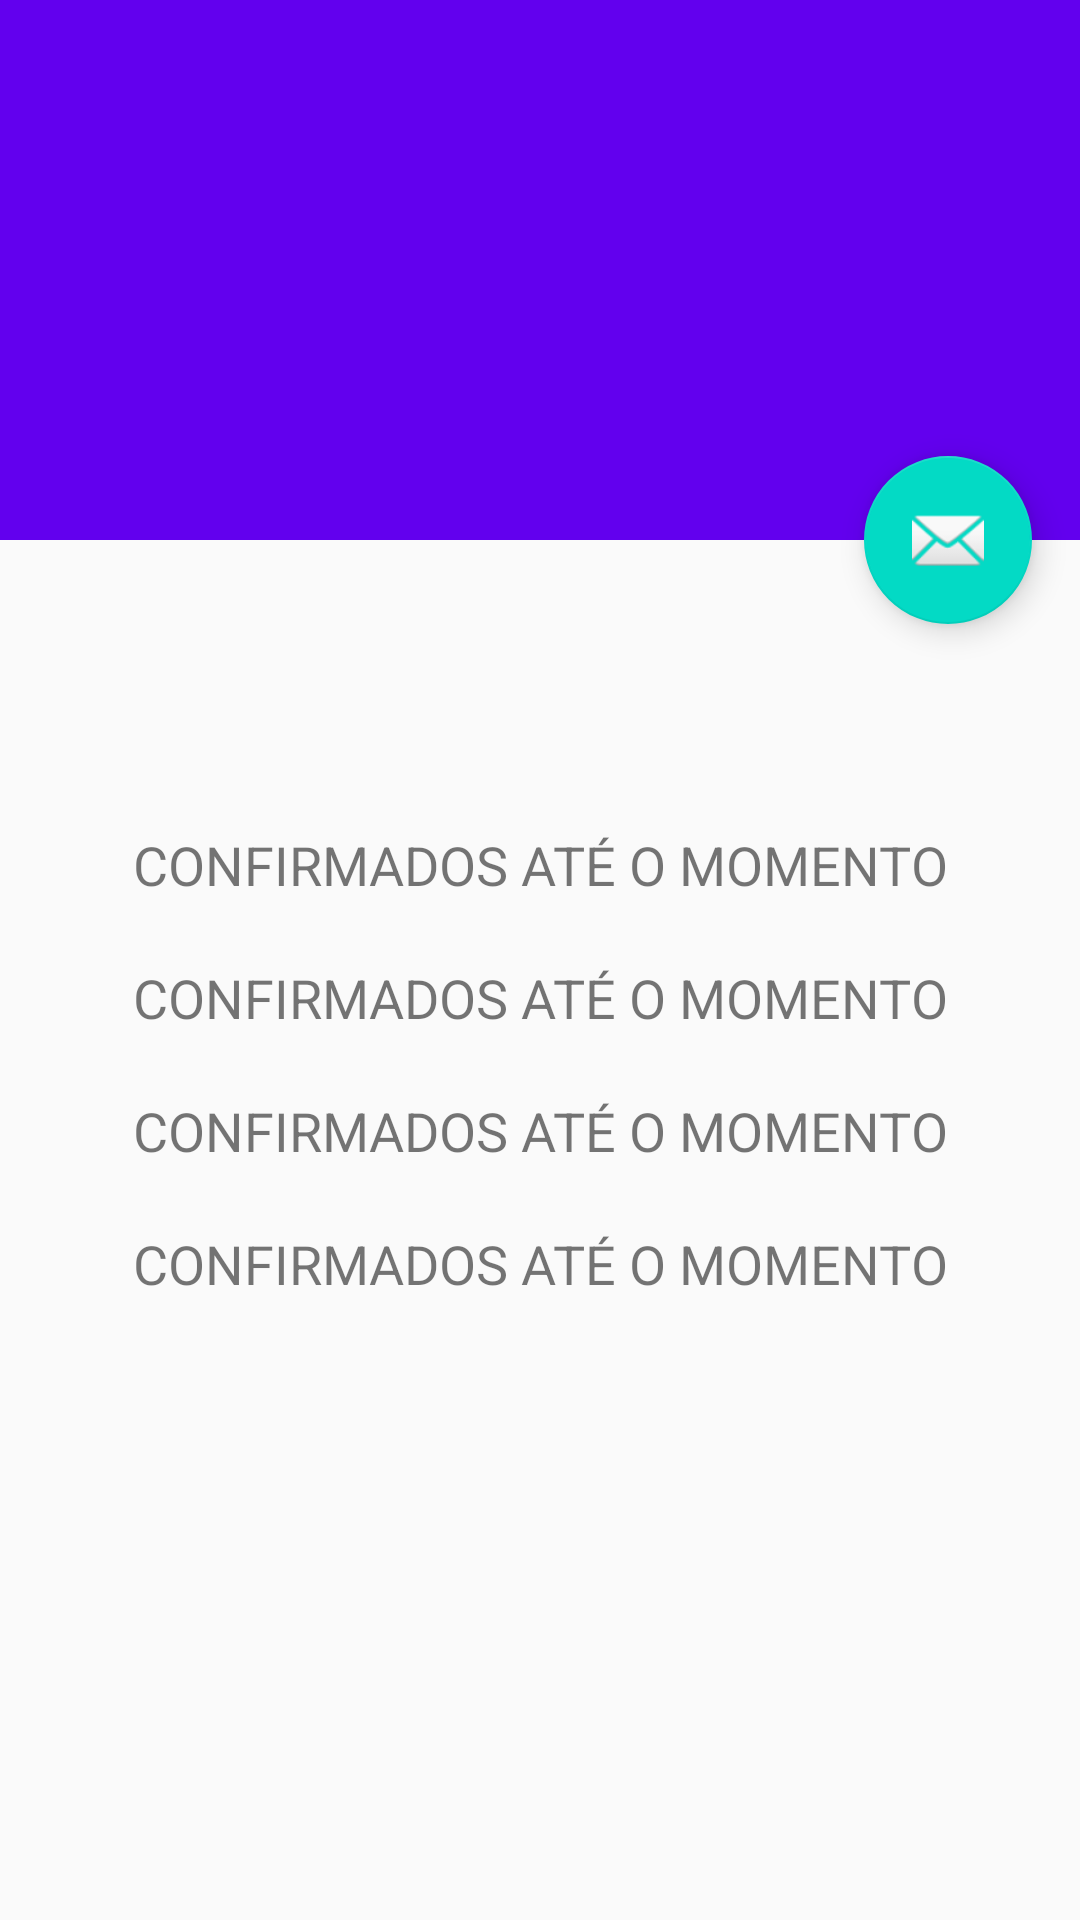

Icons on this 1080 x 1920 Android screen, each with the point to tap as point (x, y):
email: point (948, 540)
